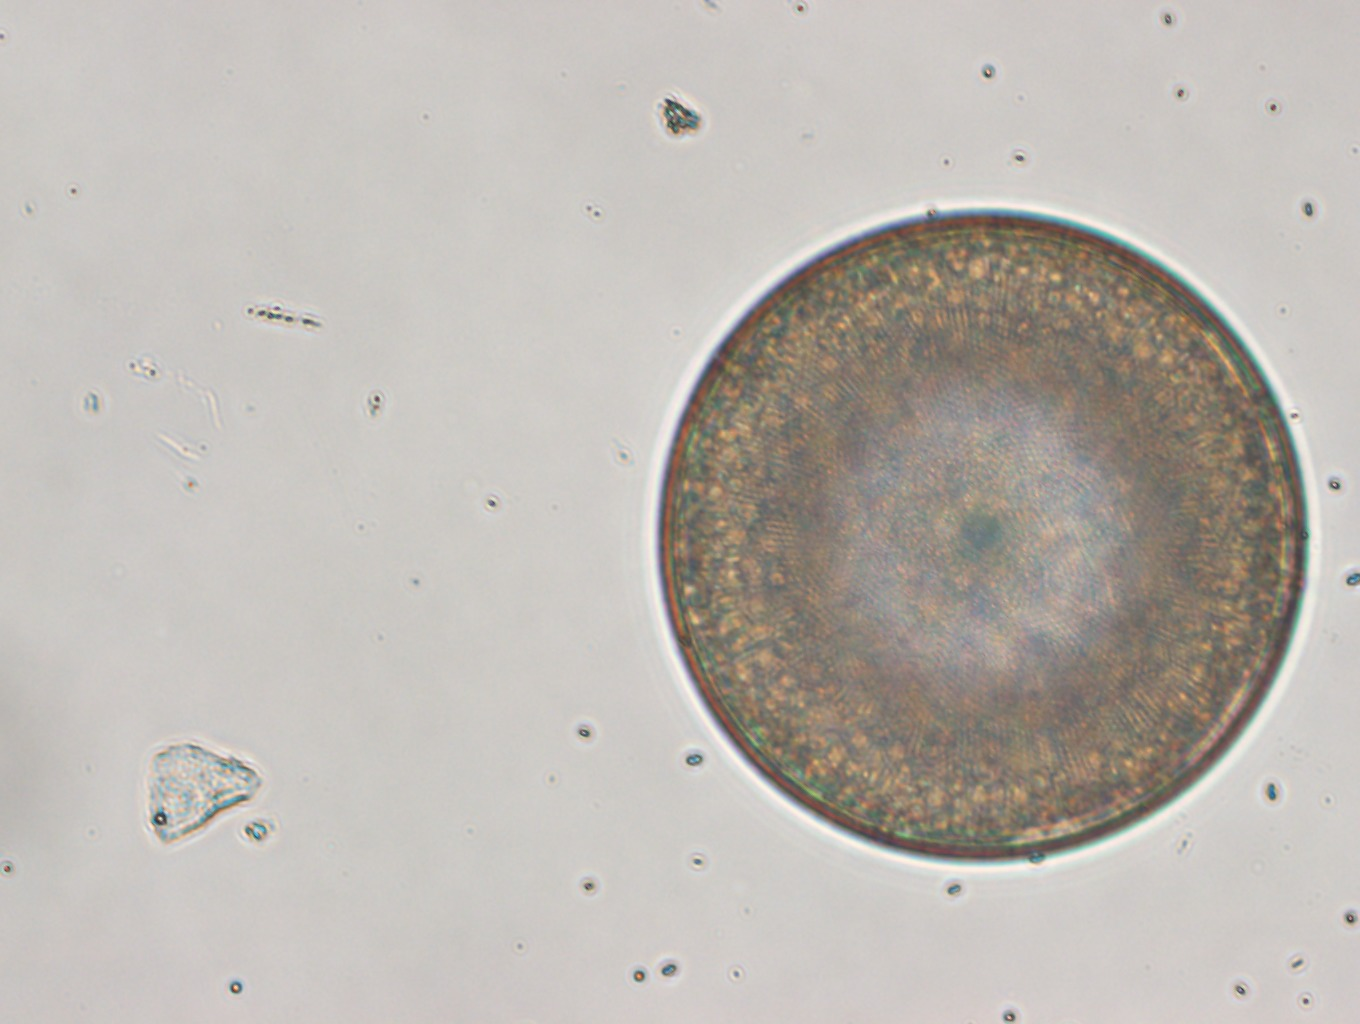coscinodiscus: (655, 204, 1309, 863)
